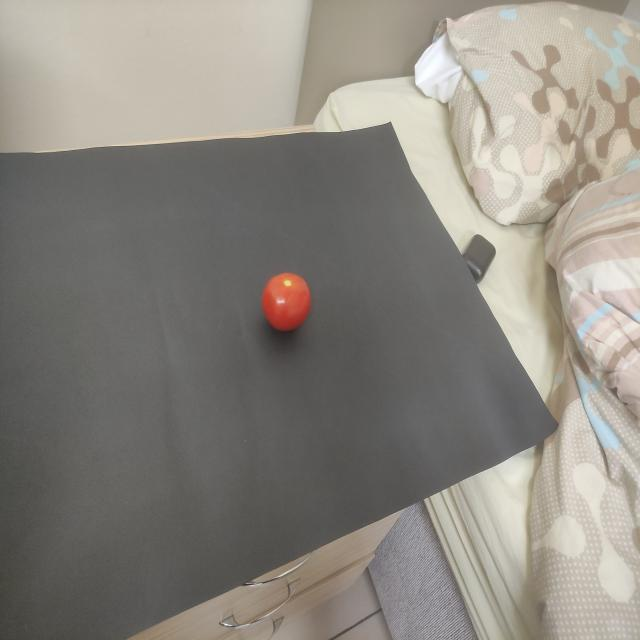kirmizi: (238, 254, 318, 356)
